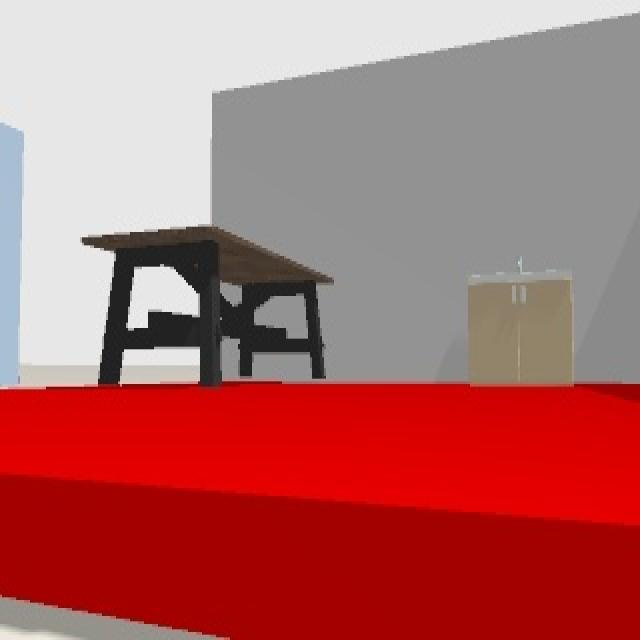dining: (80, 220, 331, 385)
